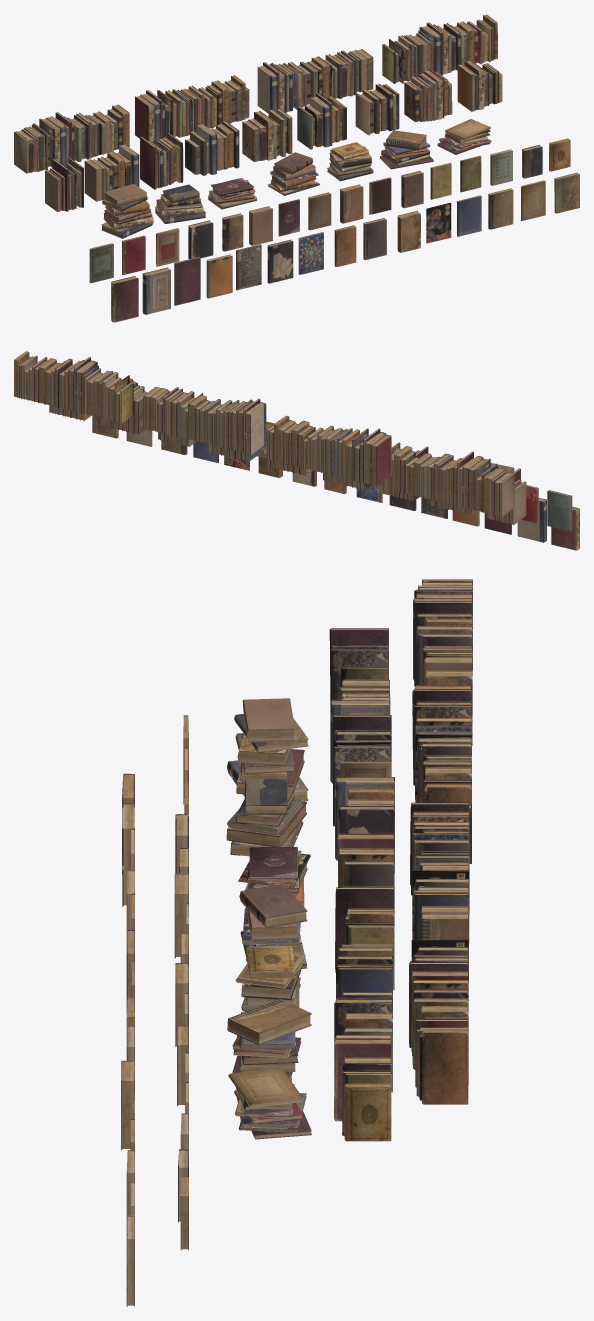
File: books2.glb
The picture shows the model from 3 angles, top to bottom: view 1: azimuth 30°, elevation 25°; view 2: azimuth 150°, elevation 25°; view 3: azimuth 270°, elevation 25°; orthographic projection. The views are drawn at different scales.
Visible parts, largest first — view 1: Object_4; view 2: Object_4; view 3: Object_4.
Part boxes in pixels (<box>): Object_4: <box>14,14,579,322</box>; Object_4: <box>14,351,579,550</box>; Object_4: <box>121,579,472,1306</box>.
Size of the model in its own units: 52.09 by 14.33 by 16.43.
Materials: 1 (1 with a texture image).
